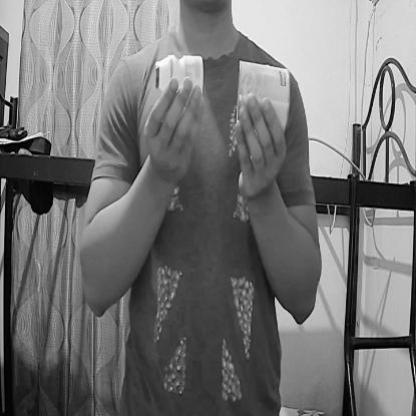Others: (153, 53, 203, 97)
